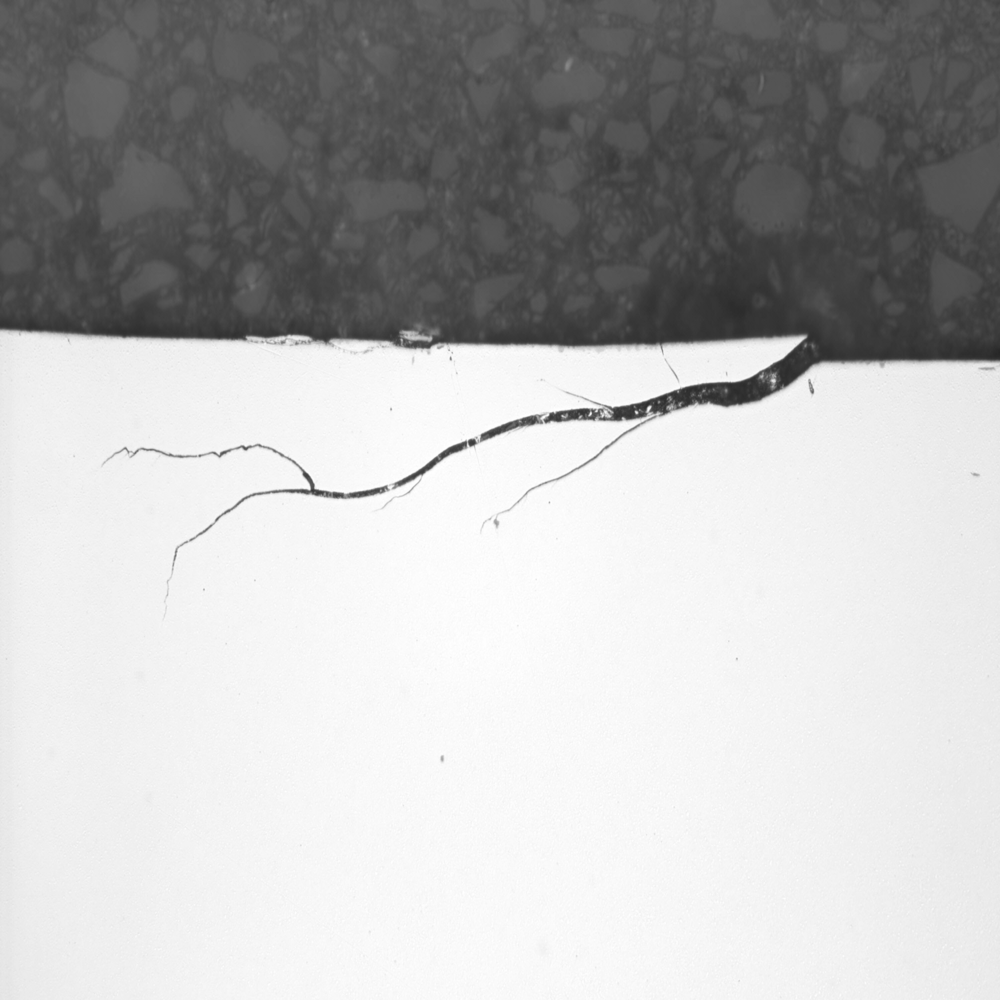crack: (80, 310, 859, 649)
